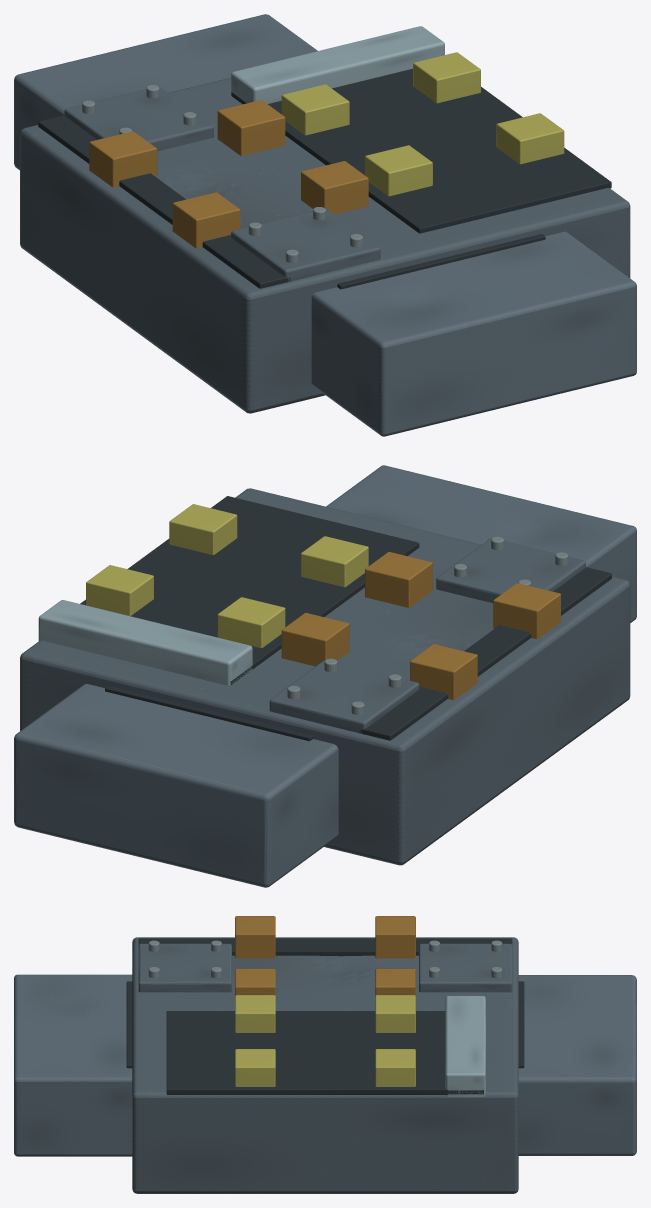
3 views of the same model, one above another, from view 1: azimuth 30°, elevation 25°; view 2: azimuth 150°, elevation 25°; view 3: azimuth 270°, elevation 25° (orthographic). The views are drawn at different scales.
Visible parts, largest first — view 1: Mauna AntiGround Unit central casing, Mauna AntiGround Unit forward terminal, Mauna AntiGround Unit dark patterned backing, Mauna AntiGround Unit rear terminal, Mauna AntiGround Unit pale foot crossbar, Mauna AntiGround Unit service cover 0, Mauna AntiGround Unit service cover 1, Mauna AntiGround Unit dark longitudinal field, Mauna AntiGround Unit coloured field 1 1, Mauna AntiGround Unit coloured field 0 1, Mauna AntiGround Unit coloured field 1 0, Mauna AntiGround Unit coloured field 0 0 (+5 smaller); view 2: Mauna AntiGround Unit central casing, Mauna AntiGround Unit rear terminal, Mauna AntiGround Unit dark patterned backing, Mauna AntiGround Unit forward terminal, Mauna AntiGround Unit pale foot crossbar, Mauna AntiGround Unit service cover 1, Mauna AntiGround Unit service cover 0, Mauna AntiGround Unit dark longitudinal field, Mauna AntiGround Unit coloured field 0 1, Mauna AntiGround Unit coloured field 1 1, Mauna AntiGround Unit coloured field 0 0, Mauna AntiGround Unit coloured field 1 0 (+5 smaller); view 3: Mauna AntiGround Unit central casing, Mauna AntiGround Unit forward terminal, Mauna AntiGround Unit rear terminal, Mauna AntiGround Unit dark patterned backing, Mauna AntiGround Unit service cover 0, Mauna AntiGround Unit service cover 1, Mauna AntiGround Unit pale foot crossbar, Mauna AntiGround Unit dark longitudinal field, Mauna AntiGround Unit coloured field 1 0, Mauna AntiGround Unit coloured field 0 0, Mauna AntiGround Unit coloured field 0 2, Mauna AntiGround Unit coloured field 0 3 (+6 smaller).
Part boxes in pixels (<box>): Mauna AntiGround Unit central casing: <box>20,77,630,413</box>; Mauna AntiGround Unit forward terminal: <box>311,231,636,436</box>; Mauna AntiGround Unit dark patterned backing: <box>231,68,611,233</box>; Mauna AntiGround Unit rear terminal: <box>14,14,317,170</box>; Mauna AntiGround Unit pale foot crossbar: <box>231,26,444,103</box>; Mauna AntiGround Unit service cover 0: <box>231,208,380,281</box>; Mauna AntiGround Unit service cover 1: <box>64,86,213,151</box>; Mauna AntiGround Unit dark longitudinal field: <box>38,115,290,288</box>; Mauna AntiGround Unit coloured field 1 1: <box>217,100,285,155</box>; Mauna AntiGround Unit coloured field 0 1: <box>301,161,368,214</box>; Mauna AntiGround Unit coloured field 1 0: <box>89,131,157,187</box>; Mauna AntiGround Unit coloured field 0 0: <box>172,192,240,248</box>; Mauna AntiGround Unit central casing: <box>20,488,630,865</box>; Mauna AntiGround Unit rear terminal: <box>14,684,338,887</box>; Mauna AntiGround Unit dark patterned backing: <box>80,496,419,684</box>; Mauna AntiGround Unit forward terminal: <box>326,465,636,622</box>; Mauna AntiGround Unit pale foot crossbar: <box>38,600,252,685</box>; Mauna AntiGround Unit service cover 1: <box>269,660,419,733</box>; Mauna AntiGround Unit service cover 0: <box>436,538,585,602</box>; Mauna AntiGround Unit dark longitudinal field: <box>359,567,611,740</box>; Mauna AntiGround Unit coloured field 0 1: <box>365,551,432,607</box>; Mauna AntiGround Unit coloured field 1 1: <box>281,612,349,666</box>; Mauna AntiGround Unit coloured field 0 0: <box>493,583,560,638</box>; Mauna AntiGround Unit coloured field 1 0: <box>410,644,477,699</box>; Mauna AntiGround Unit central casing: <box>132,937,518,1193</box>; Mauna AntiGround Unit forward terminal: <box>14,974,132,1156</box>; Mauna AntiGround Unit rear terminal: <box>518,975,636,1155</box>; Mauna AntiGround Unit dark patterned backing: <box>166,1011,483,1094</box>; Mauna AntiGround Unit service cover 0: <box>138,943,231,992</box>; Mauna AntiGround Unit service cover 1: <box>419,943,512,992</box>; Mauna AntiGround Unit pale foot crossbar: <box>445,996,485,1097</box>; Mauna AntiGround Unit dark longitudinal field: <box>138,938,512,956</box>; Mauna AntiGround Unit coloured field 1 0: <box>375,916,415,958</box>; Mauna AntiGround Unit coloured field 0 0: <box>235,916,275,958</box>; Mauna AntiGround Unit coloured field 0 2: <box>235,995,275,1032</box>; Mauna AntiGround Unit coloured field 0 3: <box>235,1049,275,1086</box>.
Bounding box in the file's own units: 1.2 × 0.4575 × 2.
Materials: 7 (3 with a texture image).
